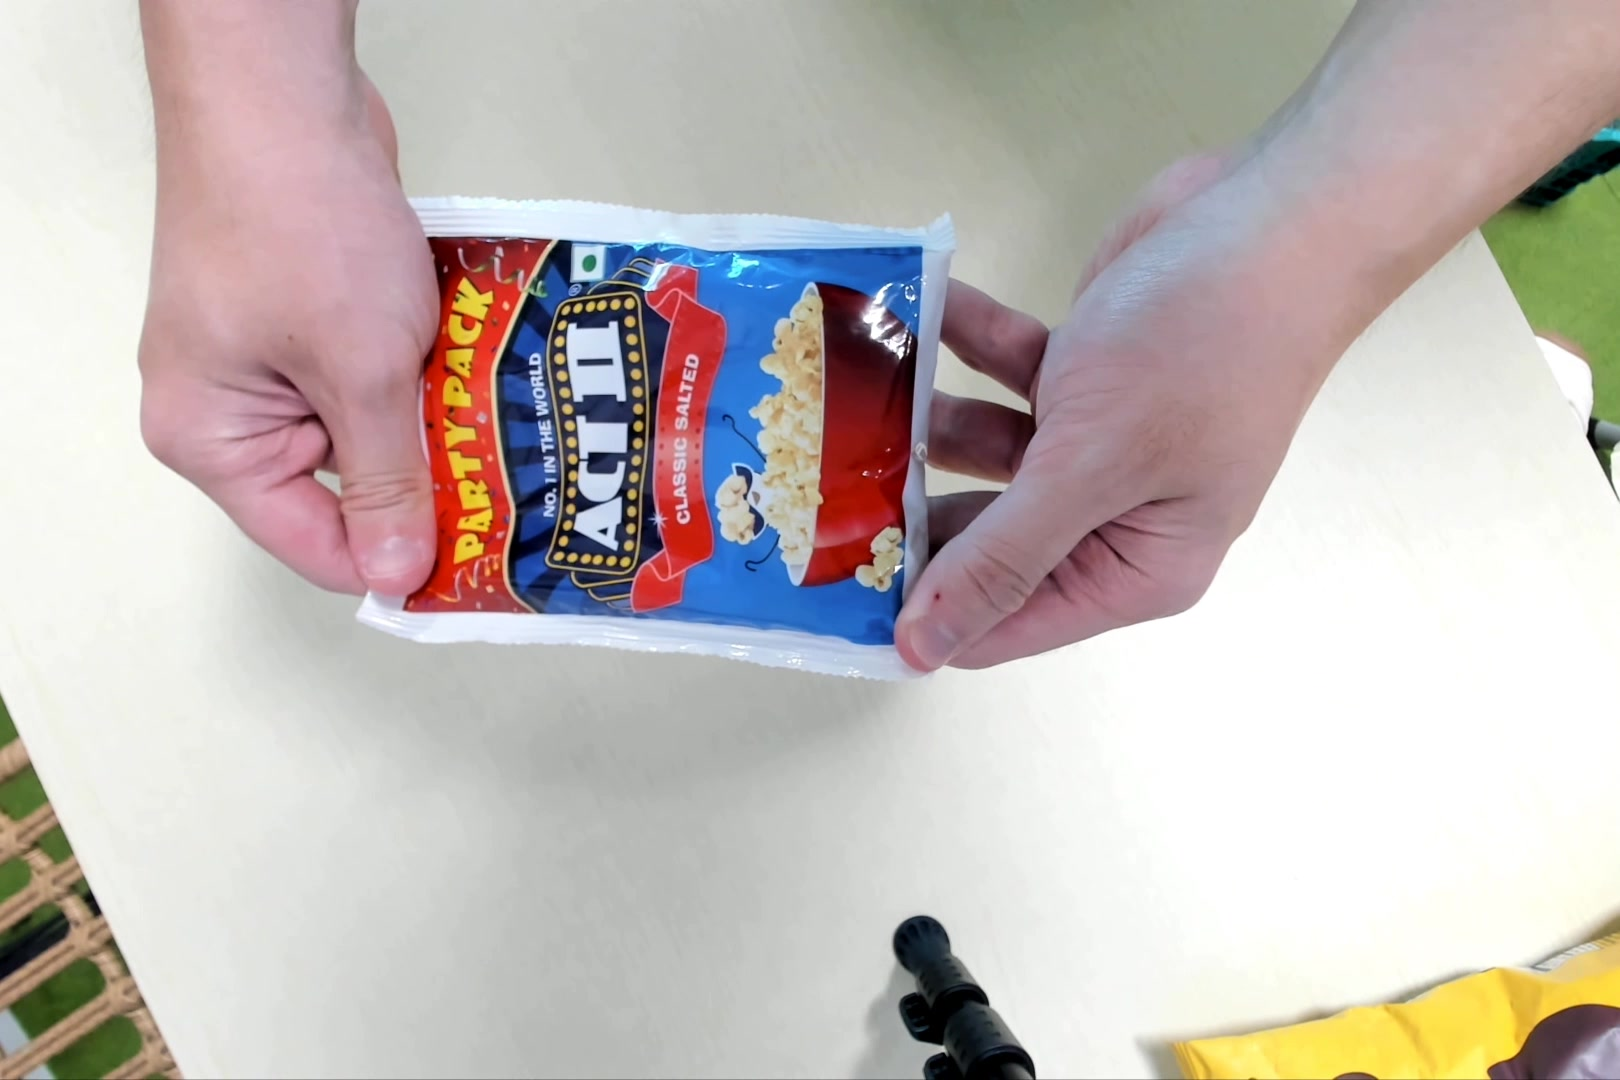PotatoChipsKeropok_100-199g_NonHalal_NonHealthy: (425, 192, 935, 662)
